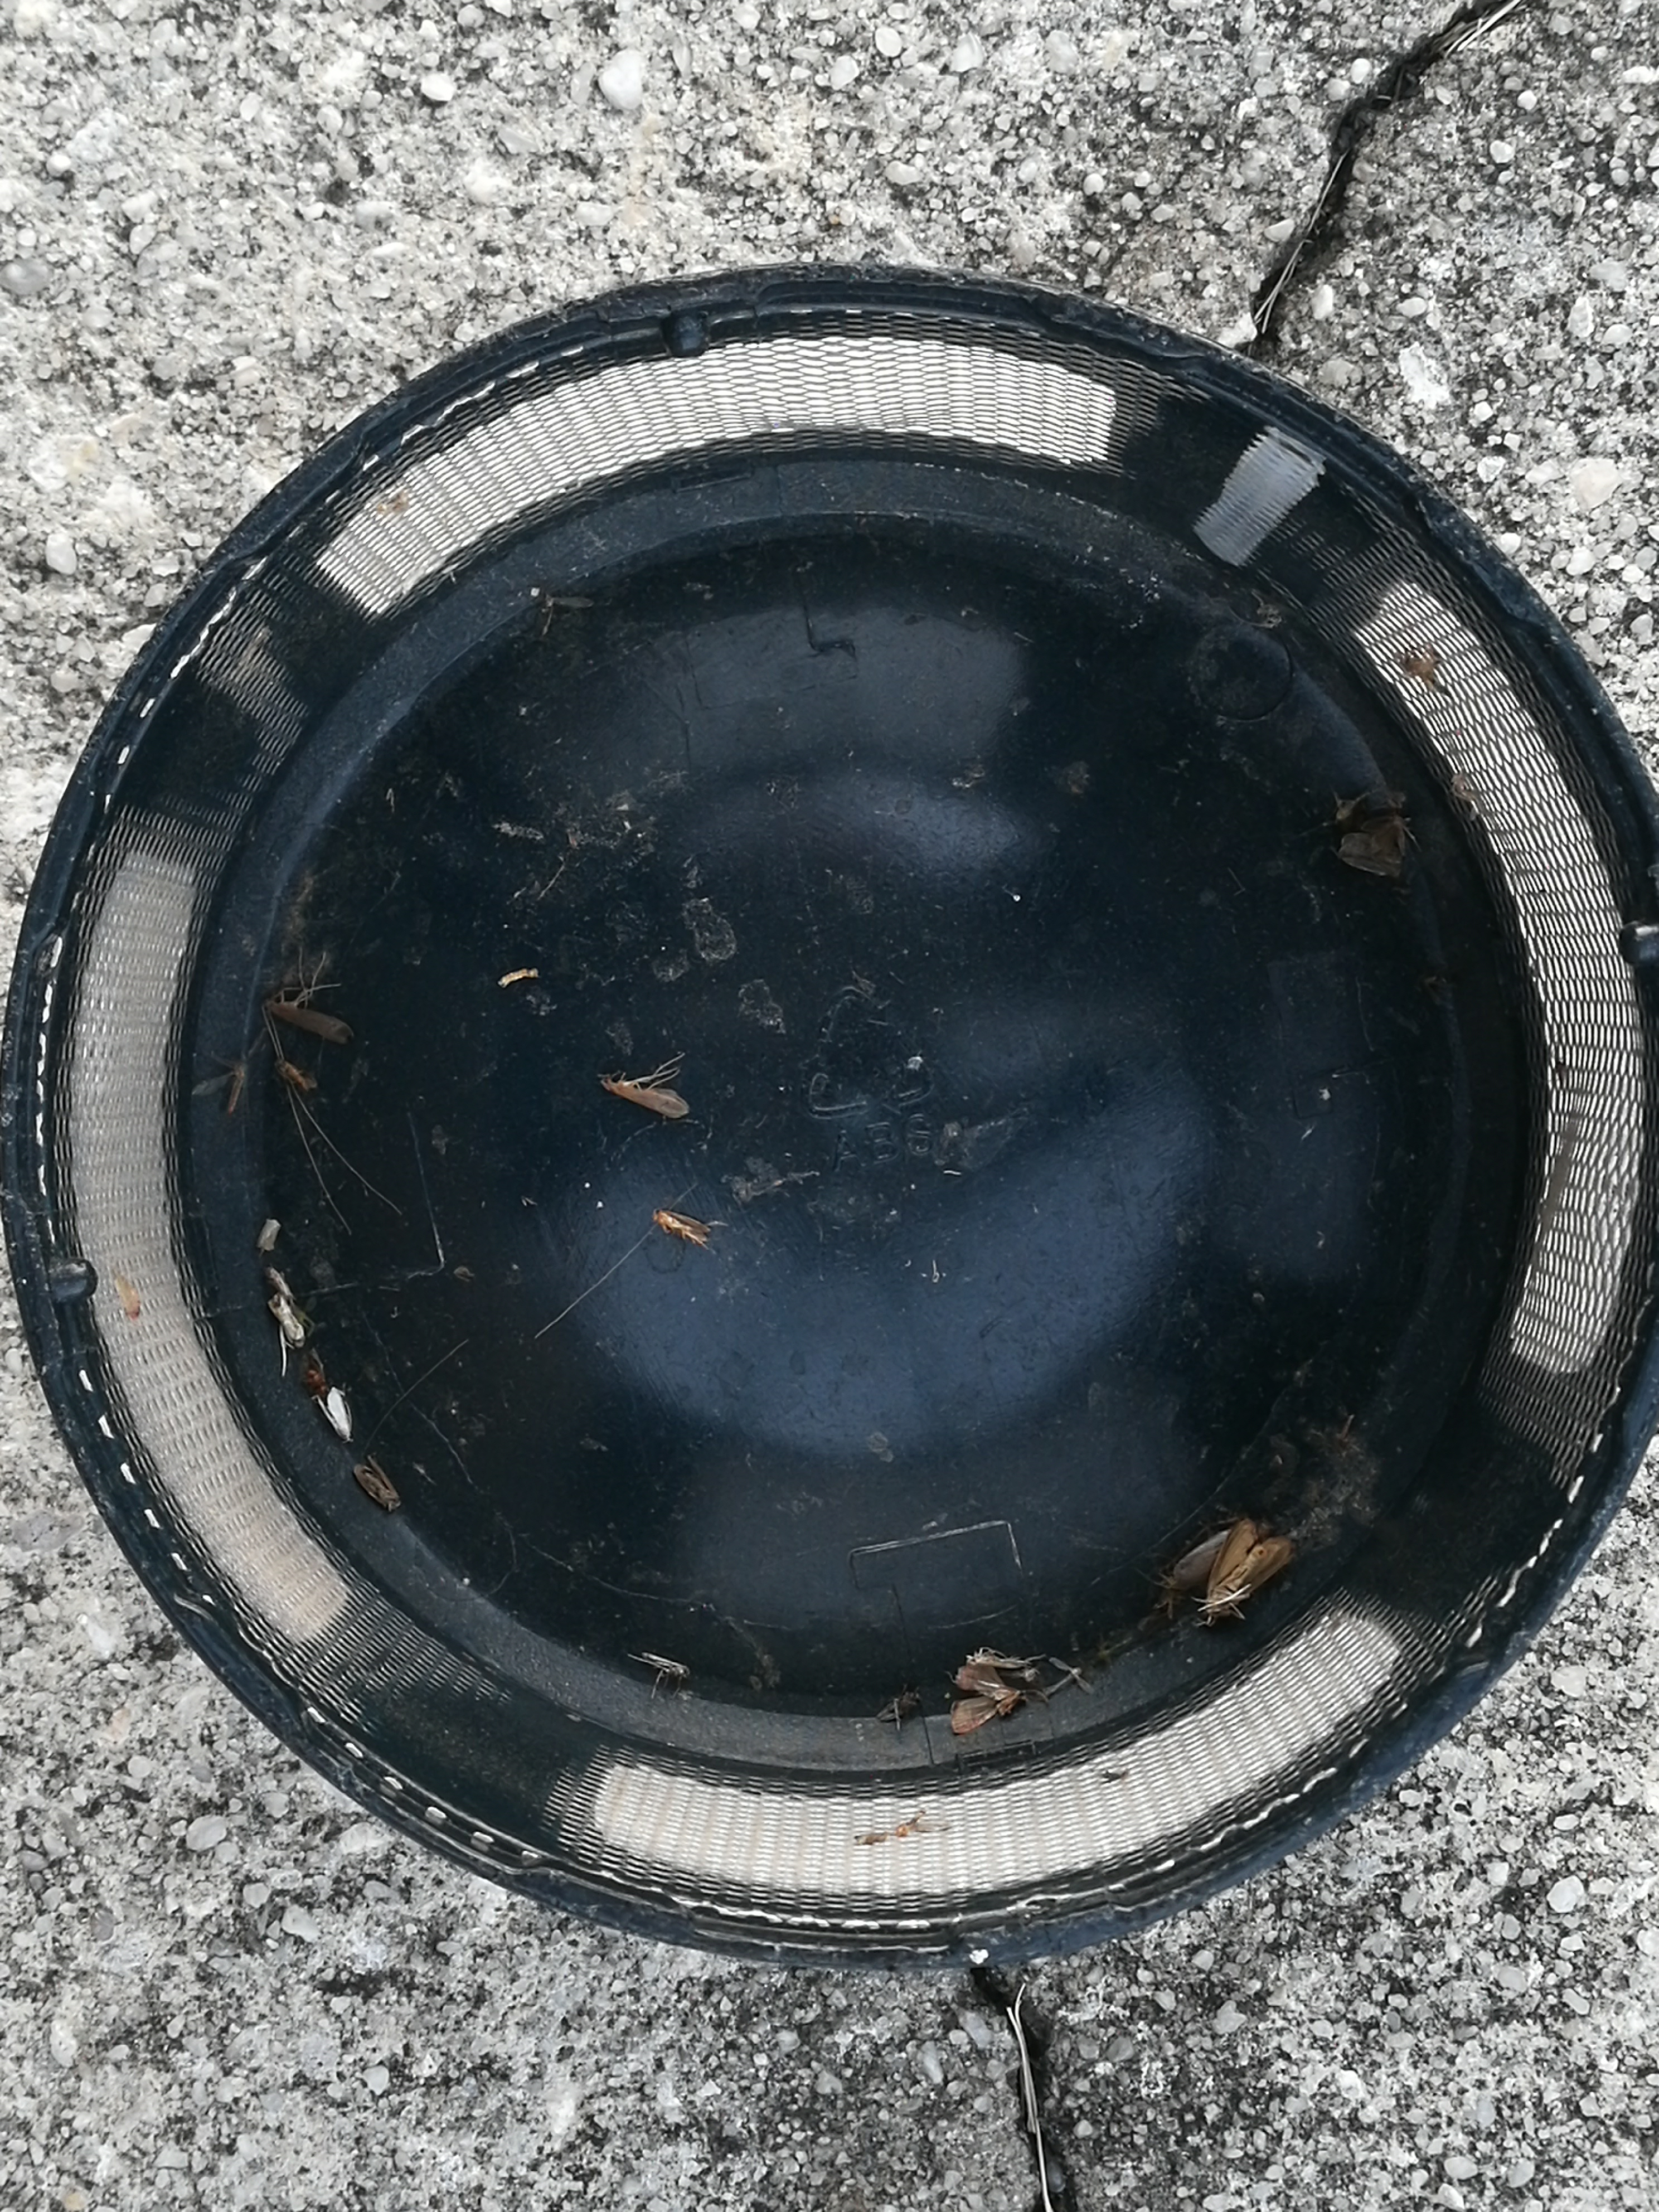mosquito: (265, 1000, 349, 1042), (603, 1080, 687, 1116), (355, 1456, 399, 1510), (655, 1211, 709, 1245), (270, 1296, 305, 1343), (324, 1390, 352, 1444), (277, 1054, 307, 1089), (268, 1266, 295, 1303)
moth: (1209, 1519, 1286, 1616), (951, 1663, 1019, 1735)
